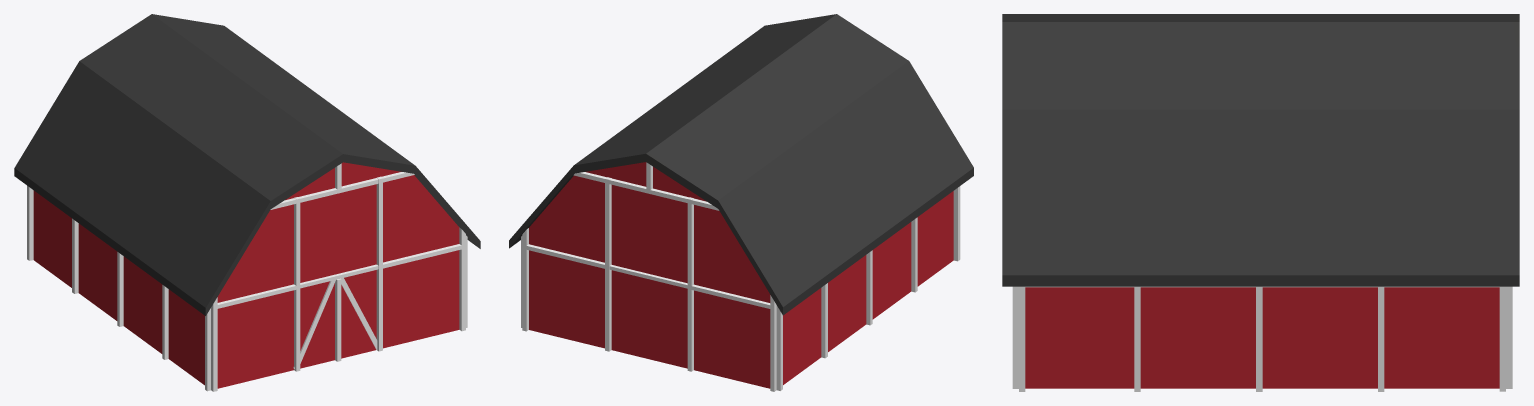
File: Barn.fbx
The picture shows the model from 3 angles, left to right: view 1: azimuth 30°, elevation 25°; view 2: azimuth 150°, elevation 25°; view 3: azimuth 270°, elevation 25°; orthographic projection. The views are drawn at different scales.
Parts seen in each view (by area): view 1: Cube.020; view 2: Cube.020; view 3: Cube.020.
Part boxes in pixels (box(x1,y1,x2,y2)): Cube.020: box(14, 14, 480, 391); Cube.020: box(509, 14, 973, 391); Cube.020: box(1002, 14, 1519, 391).
Bounding box in the file's own units: 10.96 × 8.01 × 13.22.
